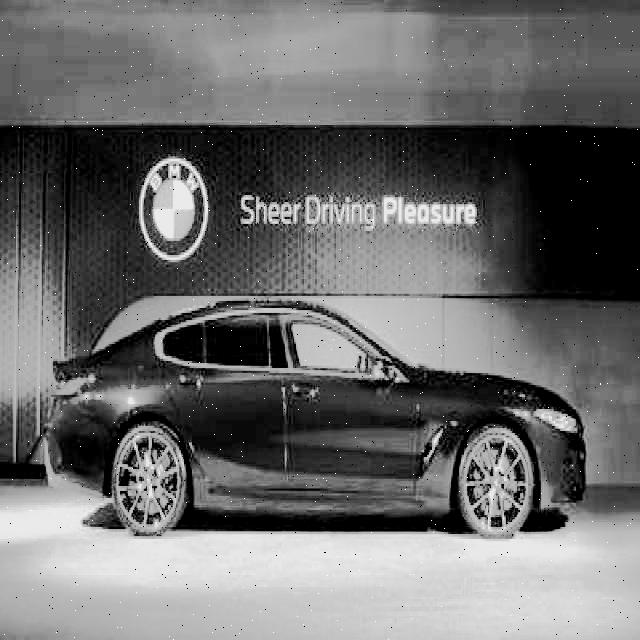Car: (45, 286, 602, 588)
